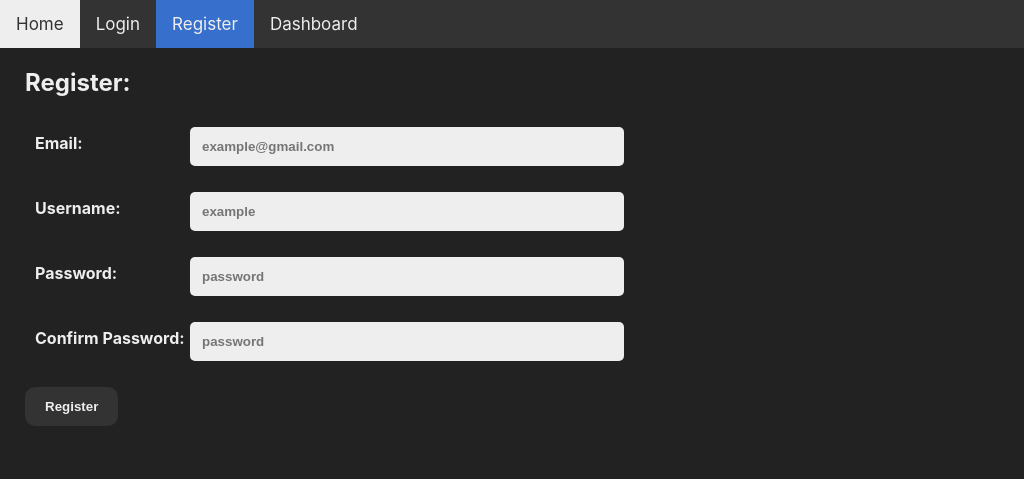
Scenario: displays error message on failed registration
Note: input email, username, password, confirm password
Step 1. Type "valid@example.com" into the field labelled "Email:" → (407, 146), box [190,127,624,166]
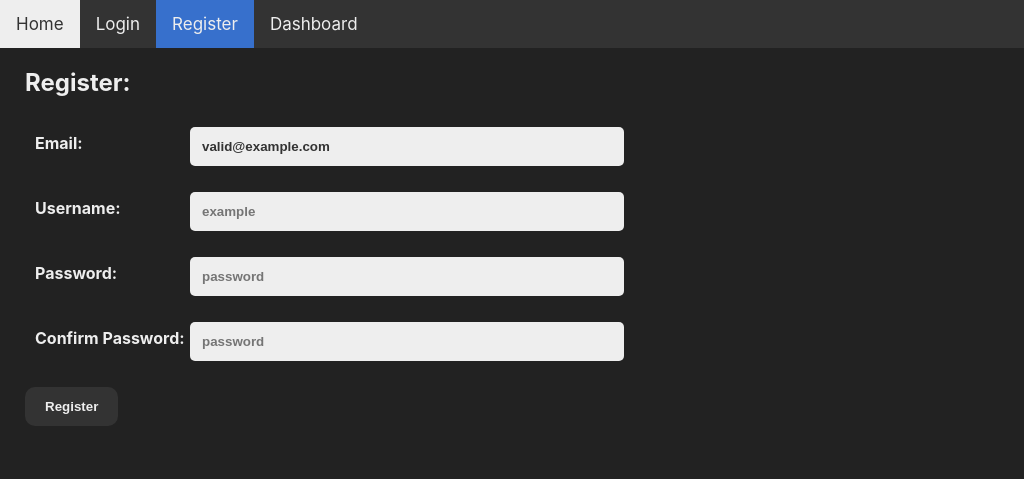
Step 2. Type "username" into the field labelled "Username:" → (407, 211), box [190,192,624,231]
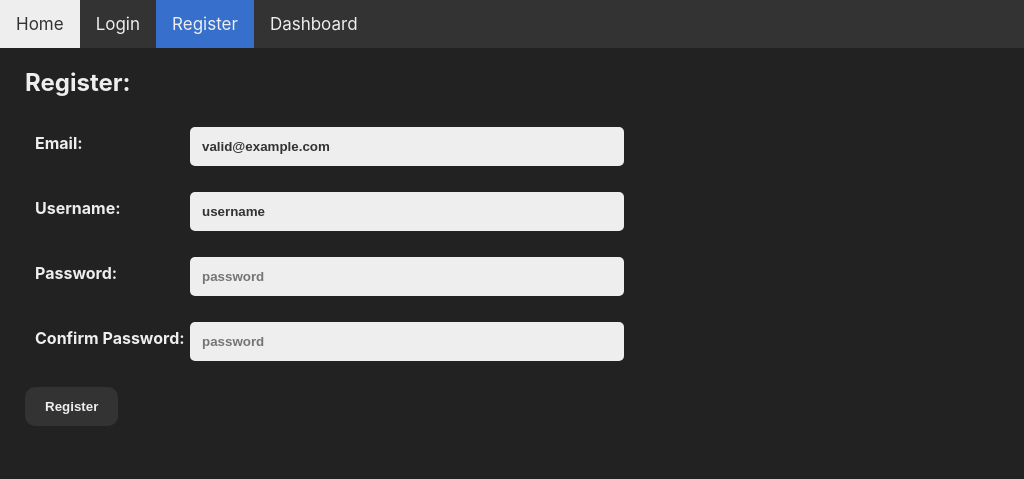
Step 3. Type "password" into the password field labelled "Password:" → (407, 276), box [190,257,624,296]
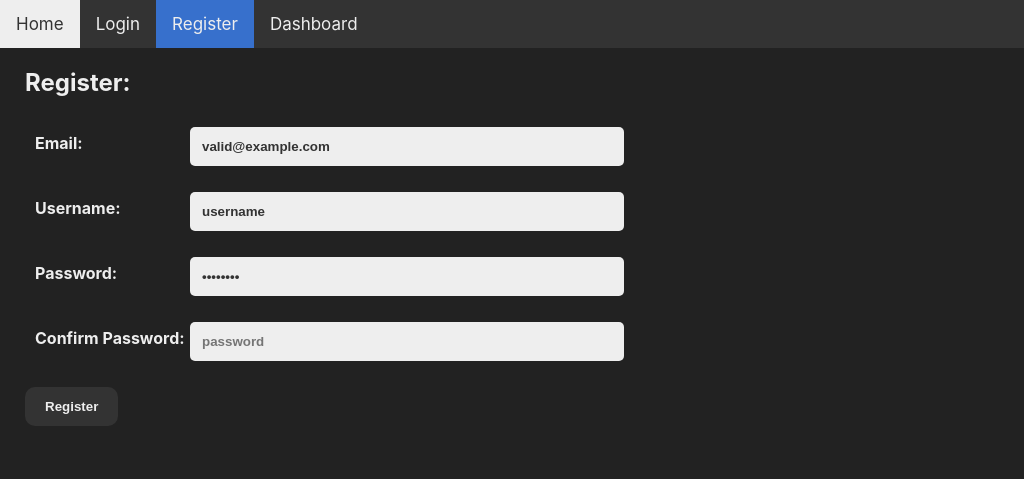
Step 4. Type "password" into the password field labelled "Confirm Password:" → (407, 341), box [190,322,624,361]
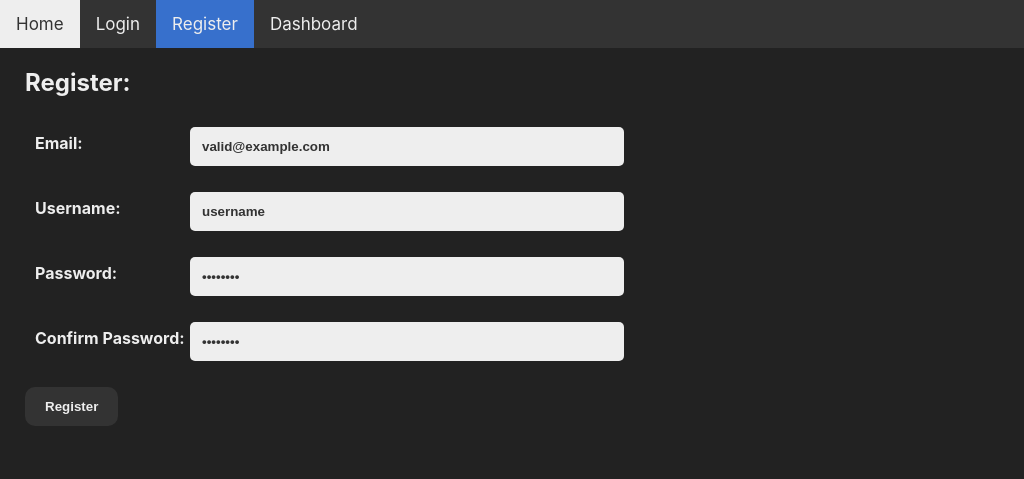
Step 5. Click the button "Register" → (72, 406), box [25,387,118,426]
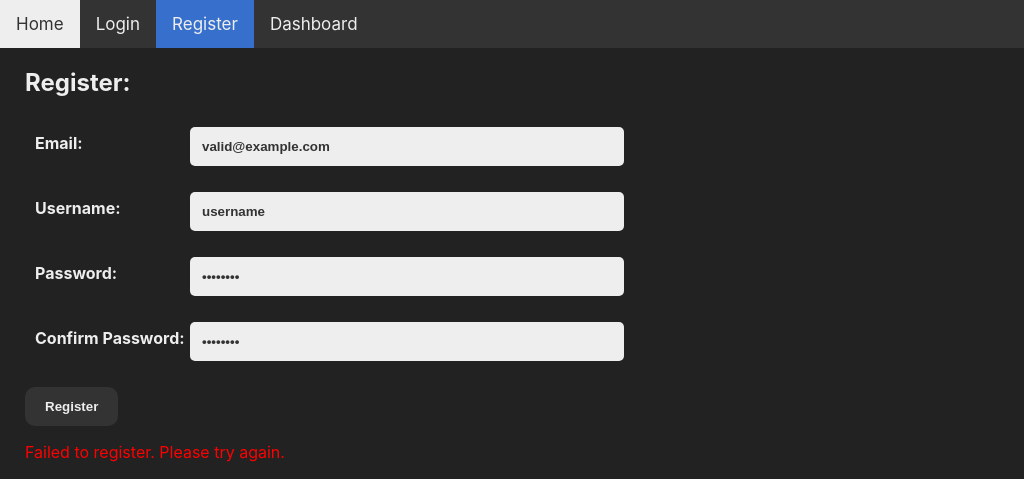
Now the text "Failed to register. Please try again." is shown, box [25,442,285,462]
